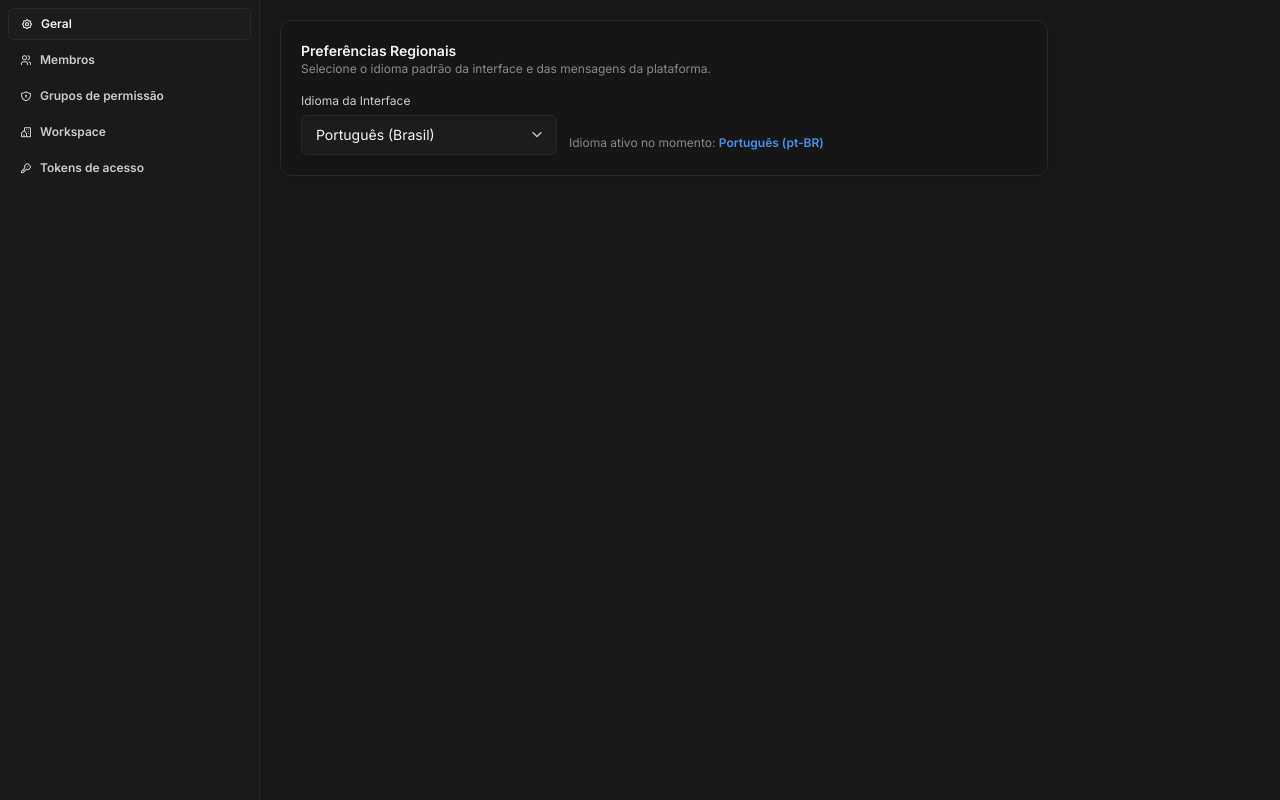
Test case: Permission groups in settings › offers only Member and Administrator and keeps showing a role from before groups
This screenshot has width=1280, height=800.
Click the button with test id "settings-section-members".
click(130, 60)  # box 8,44 -> 251,76
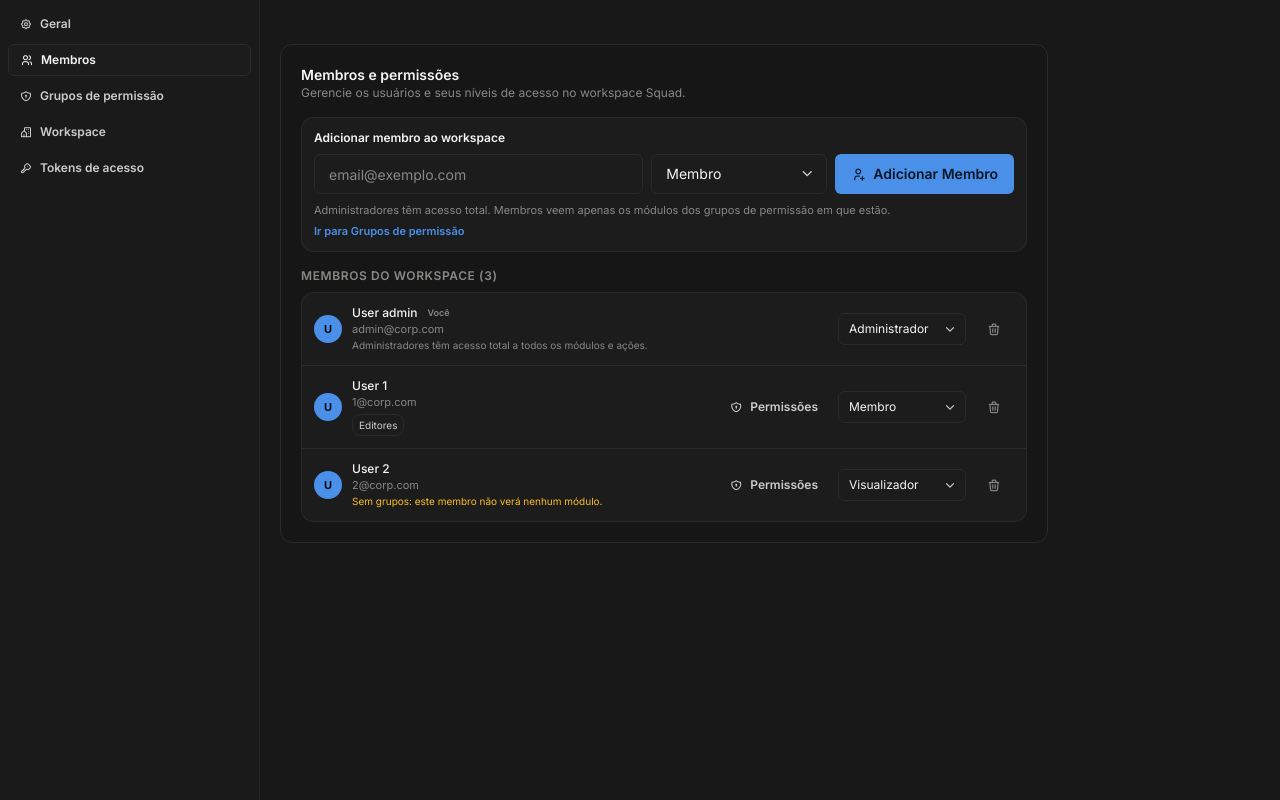
Expected: the dropdown named "Função User 2" shows "Visualizador", 838,469 -> 966,501
